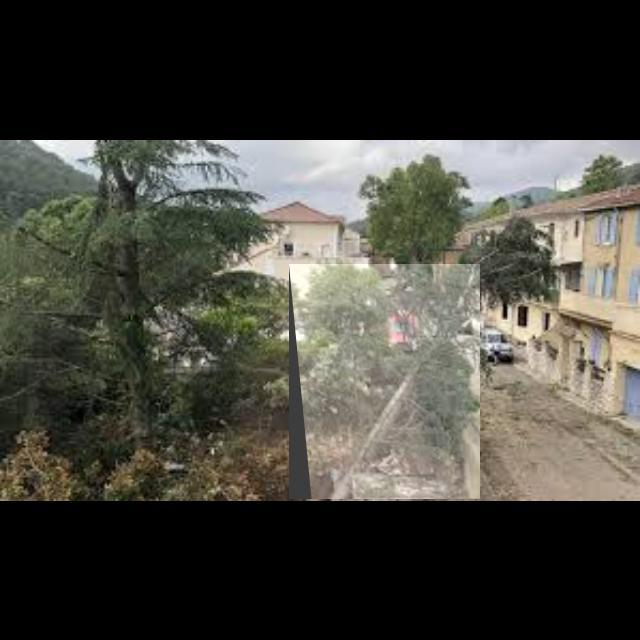fallen_tree: (289, 264, 481, 500)
